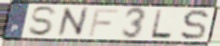3: (120, 6, 148, 42)
F: (86, 7, 120, 38)
L: (149, 9, 174, 40)
N: (56, 6, 90, 39)
S: (179, 8, 211, 41), (27, 6, 59, 38)
